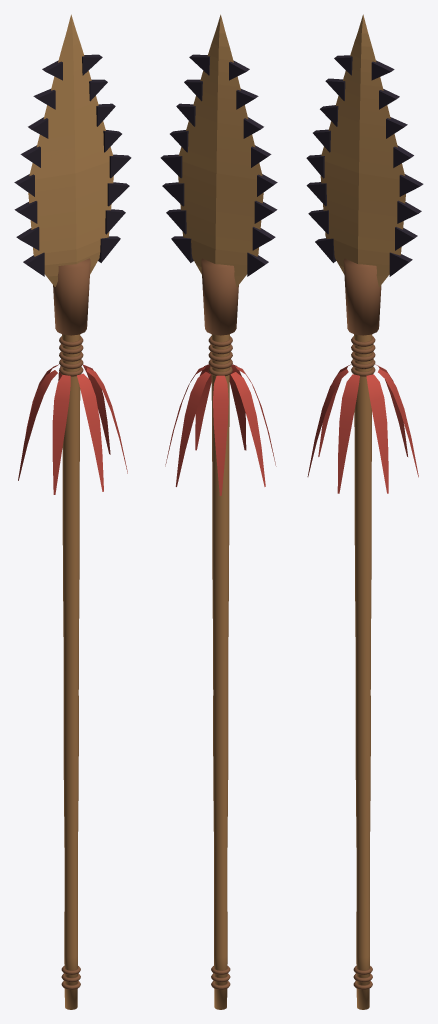
The model's file is tepoztopilli.glb.
3 renders of one model, left to right at view 1: azimuth 30°, elevation 25°; view 2: azimuth 150°, elevation 25°; view 3: azimuth 330°, elevation 25°, orthographic.
Parts seen in each view (by area): view 1: Tepoztopilli; view 2: Tepoztopilli; view 3: Tepoztopilli.
Part boxes in pixels (box(x1,y1,x2,y2)): Tepoztopilli: box(14, 14, 131, 1009); Tepoztopilli: box(160, 14, 277, 1009); Tepoztopilli: box(306, 14, 423, 1009).
Bounding box in the file's own units: 0.4167 × 3.47 × 0.3484.
